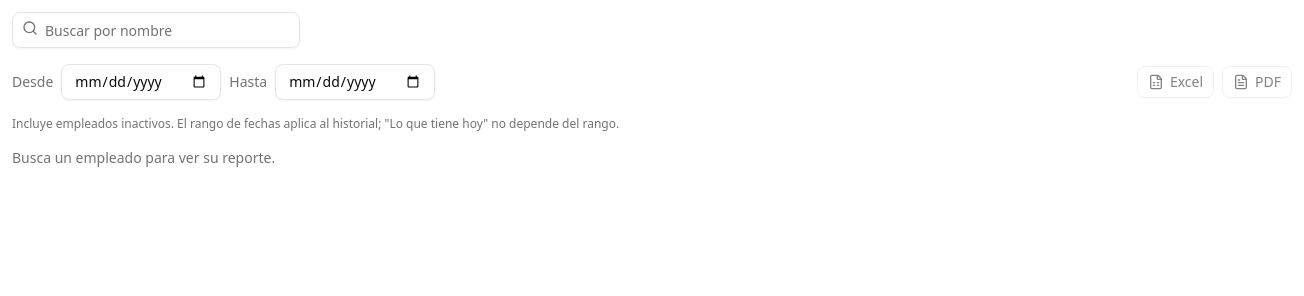
Test: EmployeeReportTab (008 US2, RN-022, RN-033) › la búsqueda incluye inactivos, marcados "(inactivo)"
This screenshot has width=1304, height=296.
Type "Ana" into the search field named "Buscar empleado" at (156, 30), box x1=12 y1=12 x2=300 y2=48
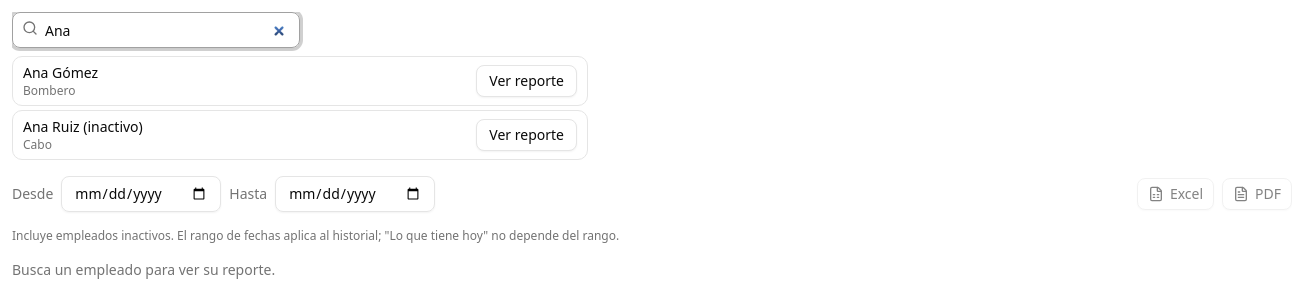
Now the text "Ana Ruiz (inactivo)" is shown, box x1=23 y1=117 x2=143 y2=137
Now the button with aria-label "Ver reporte de Ana Ruiz" is shown, box x1=476 y1=119 x2=577 y2=151
